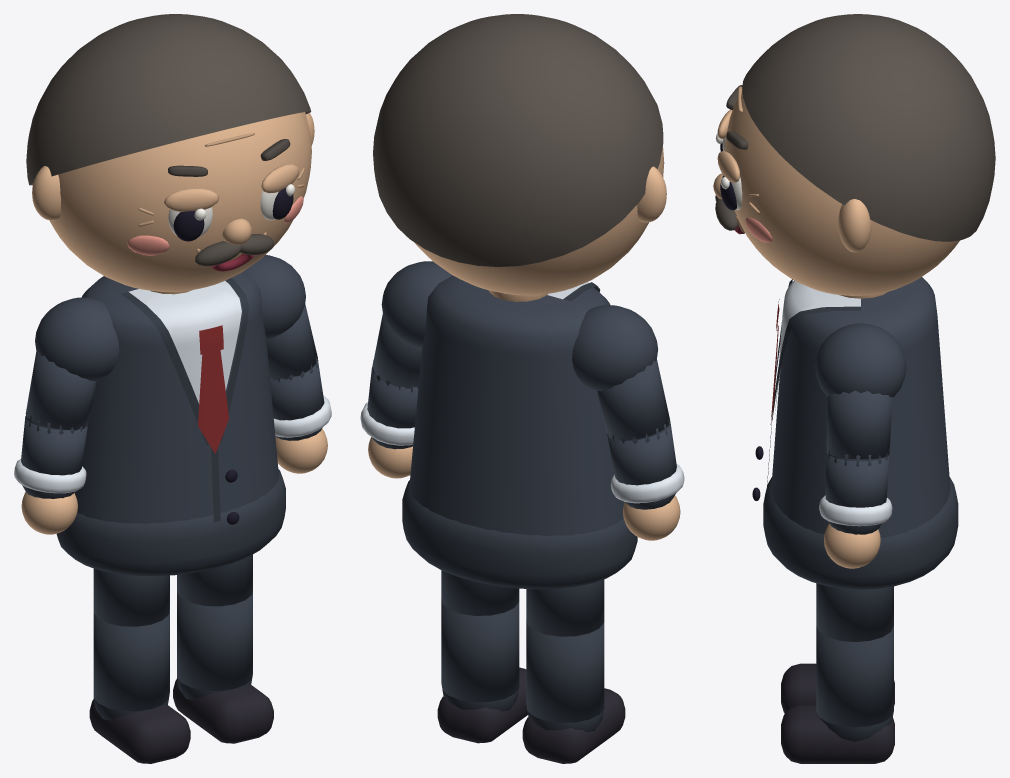
Rendered from ch_dad.fbx.
3 views of the same model, side by side, from view 1: azimuth 30°, elevation 25°; view 2: azimuth 150°, elevation 25°; view 3: azimuth 270°, elevation 25° (orthographic).
Visible parts, largest first — view 1: ch_dad; view 2: ch_dad; view 3: ch_dad.
Part boxes in pixels (x1,y1,x2,y2): ch_dad: (14,14,331,763); ch_dad: (360,14,684,763); ch_dad: (713,14,995,763).
Size of the model in its own units: 0.729 by 1.59 by 0.5746.
